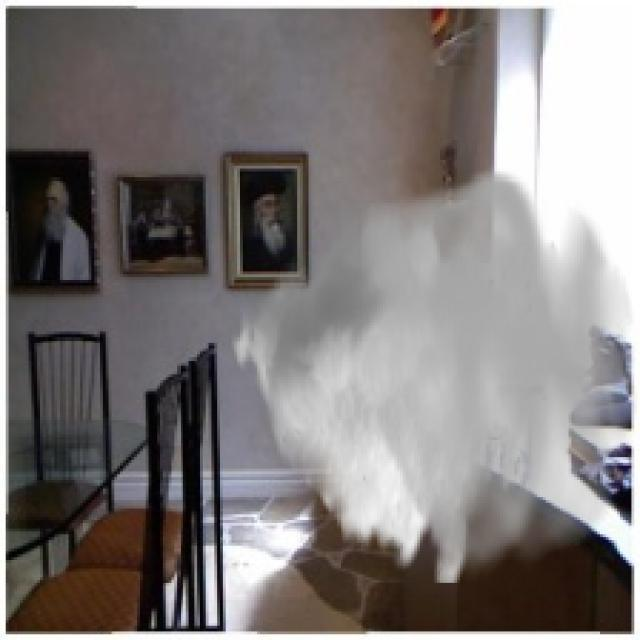Smoke: (228, 163, 638, 583)
